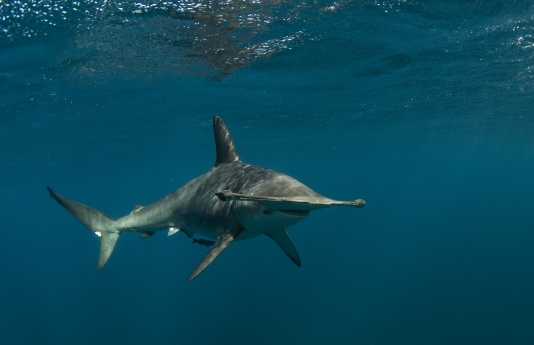Hammer: (33, 102, 380, 284)
